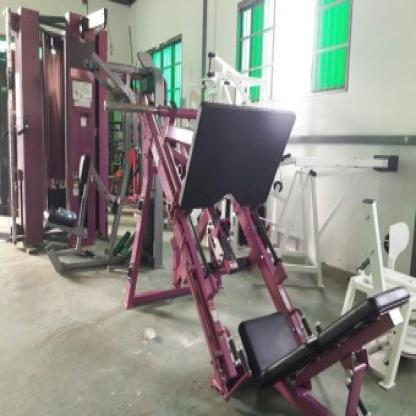leg press: (93, 81, 416, 416)
